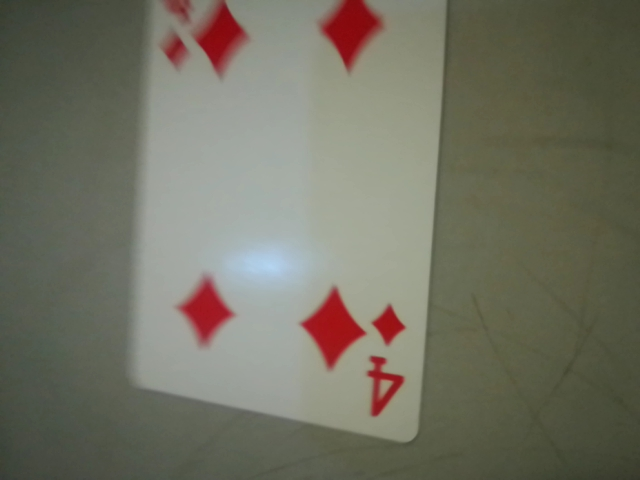fk 4: (351, 287, 419, 433)
